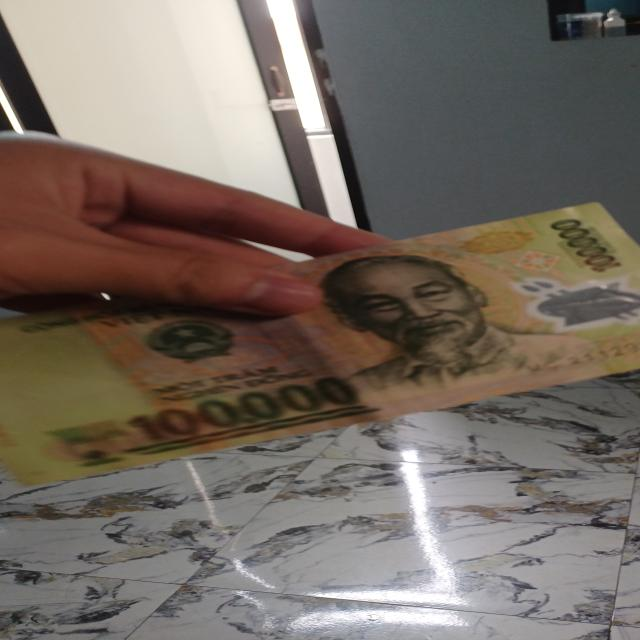100 000 VND: (2, 199, 640, 490)
